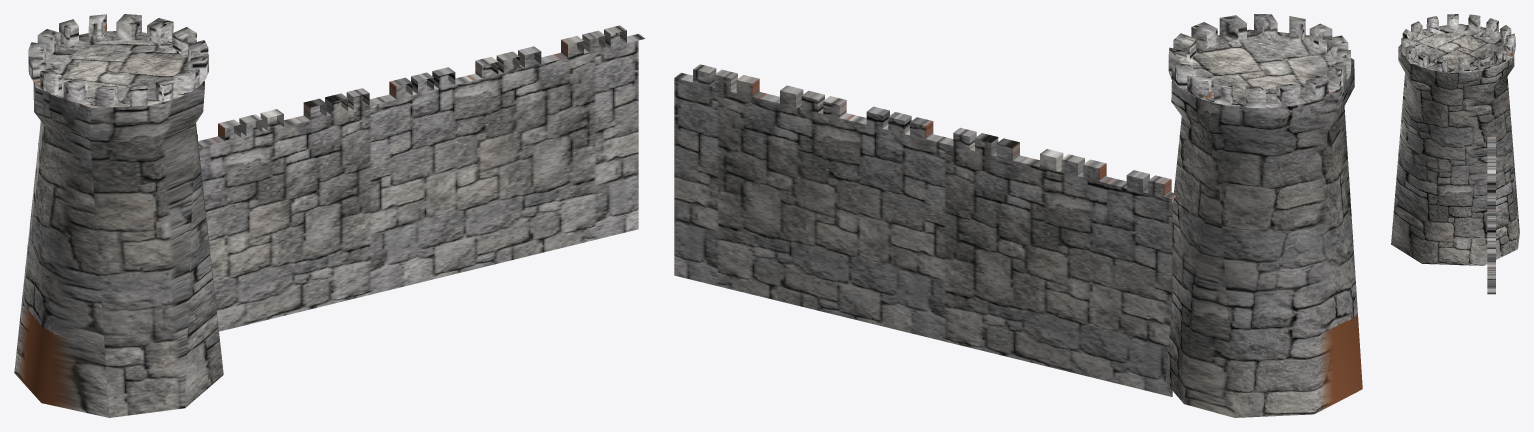
File: CastleMid.fbx
3 views of the same model, side by side, from view 1: azimuth 30°, elevation 25°; view 2: azimuth 150°, elevation 25°; view 3: azimuth 270°, elevation 25° (orthographic). The views are drawn at different scales.
Parts seen in each view (by area): view 1: Cube.005; view 2: Cube.005; view 3: Cube.005.
Part boxes in pixels (left/top/right/bottom): Cube.005: left=14, top=14, right=645, bottom=417; Cube.005: left=674, top=14, right=1362, bottom=417; Cube.005: left=1391, top=14, right=1519, bottom=294.
Bounding box in the file's own units: 10730 × 5342 × 2966.
